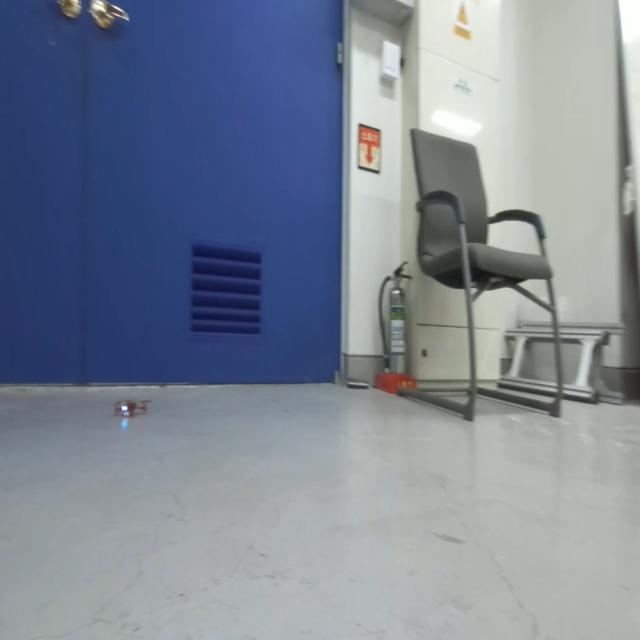crazyflie: (111, 392, 151, 422)
